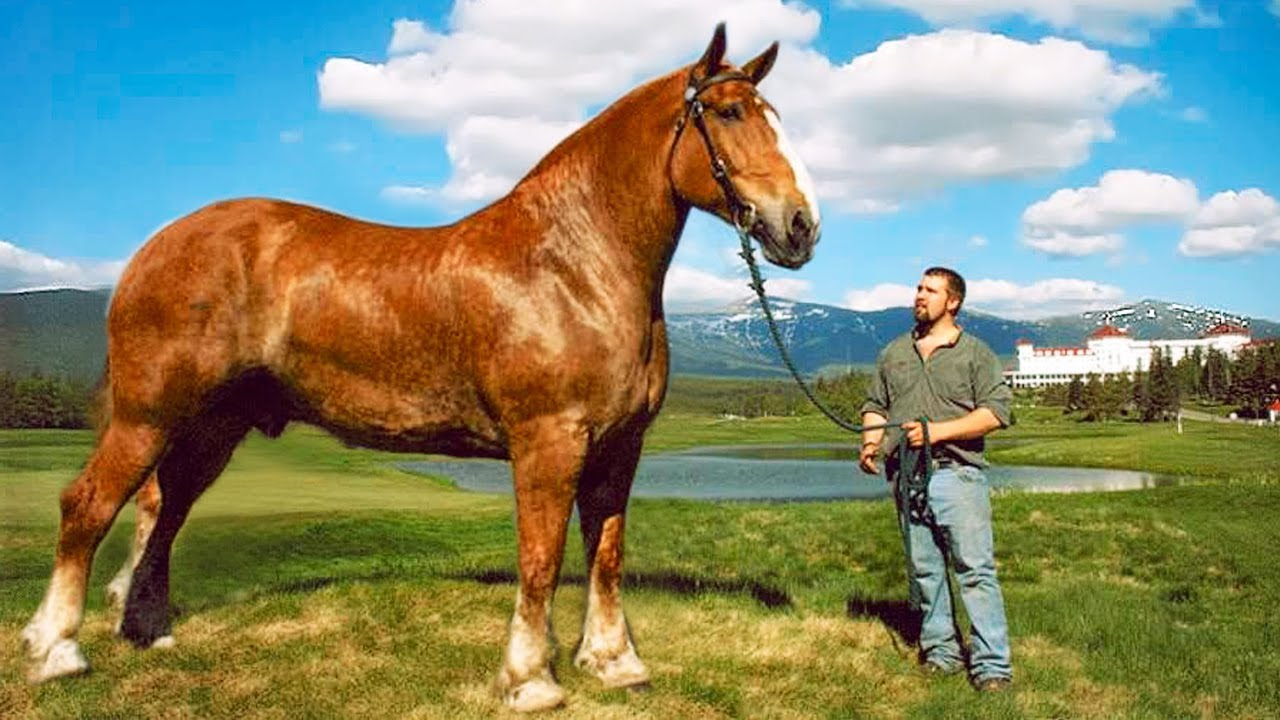Horse: (392, 5, 877, 720)
